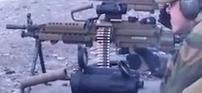gun: (1, 1, 202, 93)
